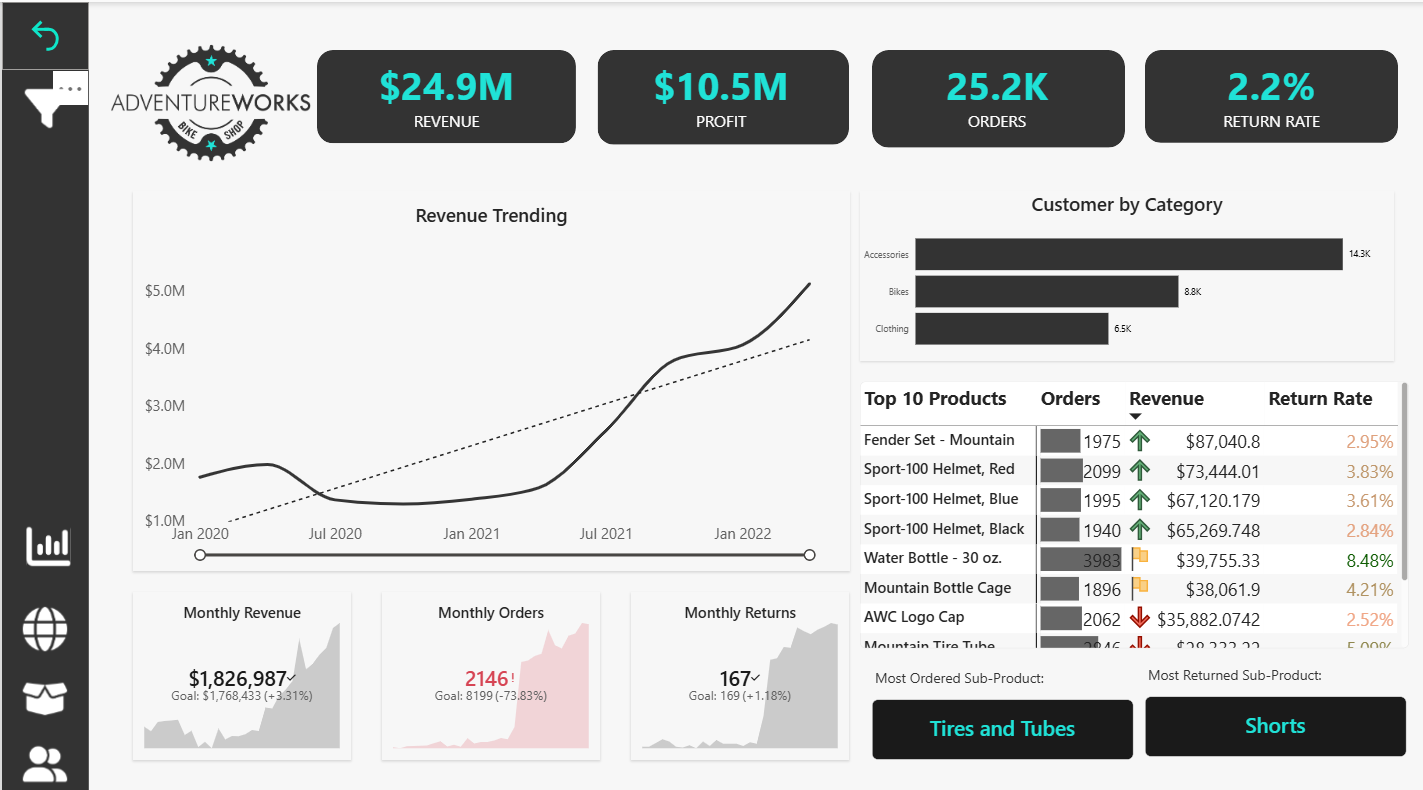

This screenshot's page, from the dashboard's own definition file:
{"tool":"powerbi","page":{"name":"Exe Dashboard","canvas":[1920,1080],"ordinal":0},"visuals":[{"type":"image","title":"Logo","box":[118,0,330.5,273.7],"z":0},{"type":"card","fields":{"Values":["Sales Data (Fact).Total Revenue"]},"box":[436,26,330,198],"z":0,"group":"g2"},{"type":"group","id":"g1","title":"KPI background","box":[426,64,1462,132],"z":0,"group":"g3"},{"type":"shape","box":[426,64,350,126.3],"z":0,"group":"g1"},{"type":"actionButton","box":[8.2,693.4,109.5,85.2],"z":0,"group":"g4"},{"type":"shape","title":"Left panel","box":[0,0,117.6,1080.7],"z":1000},{"type":"group","id":"g2","title":"KPI values","box":[436,26,1446,198],"z":1000,"group":"g3"},{"type":"card","fields":{"Values":["Sales Data (Fact).Total Profit"]},"box":[808,26,330,198],"z":1000,"group":"g2"},{"type":"shape","box":[1546,64,342,125.6],"z":1000,"group":"g1"},{"type":"actionButton","box":[8,986.5,99.4,85.2],"z":1000,"group":"g4"},{"type":"group","id":"g3","title":"Top KPIs","box":[426,26,1462,198],"z":2000},{"type":"card","fields":{"Values":["Sales Data (Fact).Total Orders"]},"box":[1180,26,330,198],"z":2000,"group":"g2"},{"type":"shape","box":[1175.9,64,342,132],"z":2000,"group":"g1"},{"type":"actionButton","box":[8,804,99.4,85.2],"z":2000,"group":"g4"},{"type":"card","fields":{"Values":["Sales Data (Fact).Return rate"]},"box":[1552,26,330,198],"z":3000,"group":"g2"},{"type":"shape","box":[805.9,64,340,128.2],"z":3000,"group":"g1"},{"type":"lineChart","title":"Revenue Trending","fields":{"Category":["AdventureWorks Calendar Lookup.Date Hierarchy.year","AdventureWorks Calendar Lookup.Date Hierarchy.Start of month","AdventureWorks Calendar Lookup.Date Hierarchy.Start of Quarter","AdventureWorks Calendar Lookup.Date Hierarchy.Strat of the week","AdventureWorks Calendar Lookup.Date Hierarchy.Day"],"Y":["Sales Data (Fact).Total Revenue"]},"box":[176,256,970,514],"z":3000},{"type":"actionButton","box":[4.1,885.9,107.5,111.5],"z":3000,"group":"g4"},{"type":"kpi","title":"Monthly Revenue","fields":{"Goal":["Sales Data (Fact).Previous Month Revenue"],"Indicator":["Sales Data (Fact).Total Revenue"],"TrendLine":["AdventureWorks Calendar Lookup.Start of month"]},"box":[176,796,296,228],"z":4000},{"type":"kpi","title":"Monthly Returns","fields":{"Goal":["AdventureWorks Returns Data.Previous Month Returns"],"Indicator":["AdventureWorks Returns Data.Total returns"],"TrendLine":["AdventureWorks Calendar Lookup.Start of month"]},"box":[850,796,296,228],"z":5000},{"type":"kpi","title":"Monthly Orders","fields":{"Goal":["Sales Data (Fact).Previous Month Orders"],"Indicator":["Sales Data (Fact).Total Orders"],"TrendLine":["AdventureWorks Calendar Lookup.Start of month"]},"box":[513,796,296,228],"z":6000},{"type":"clusteredBarChart","title":"Customer by Category","fields":{"Category":["Product Categories Lookup.CategoryName"],"Y":["Sales Data (Fact).Unique Customer"]},"box":[1159.8,255.5,721.8,229.1],"z":7000},{"type":"pivotTable","fields":{"Rows":["Product Lookup.ProductName"],"Values":["Sales Data (Fact).Total Orders","Sales Data (Fact).Total Revenue","AdventureWorks Returns Data.% of all returns"]},"box":[1159.8,513,742.1,360.9],"z":8000},{"type":"card","fields":{"Values":["Min(Product Subcategories Lookup.SubcategoryName)"]},"box":[1176.9,943.8,353.1,81.5],"z":9000},{"type":"textbox","box":[1180,900.2,251.4,42.6],"z":10000},{"type":"card","fields":{"Values":["Min(Product Subcategories Lookup.SubcategoryName)"]},"box":[1545.1,938.9,353.1,81.5],"z":11000},{"type":"textbox","box":[1548.3,895.4,251.4,42.6],"z":12000},{"type":"actionButton","box":[0,0,117.6,91.2],"z":13000},{"type":"group","id":"g4","title":"Navigation buttons","box":[4.1,693.4,113.5,378.3],"z":14000},{"type":"actionButton","box":[6.1,91.2,109.5,105.4],"z":15000}]}

Visuals, with their boxes on the page's 1920x1080 design canvas (x1, y1, x2, y2). These are canvas units, not pixel positions in the 1423x790 screenshot, which may show the page scaled, cropped or inside an application window:
"Logo" image: (x1=118, y1=0, x2=448, y2=274)
card - Sales Data (Fact).Total Revenue: (x1=436, y1=26, x2=766, y2=224)
"KPI background" group: (x1=426, y1=64, x2=1888, y2=196)
shape: (x1=426, y1=64, x2=776, y2=190)
actionButton: (x1=8, y1=693, x2=118, y2=779)
"Left panel" shape: (x1=0, y1=0, x2=118, y2=1081)
"KPI values" group: (x1=436, y1=26, x2=1882, y2=224)
card - Sales Data (Fact).Total Profit: (x1=808, y1=26, x2=1138, y2=224)
shape: (x1=1546, y1=64, x2=1888, y2=190)
actionButton: (x1=8, y1=986, x2=107, y2=1072)
"Top KPIs" group: (x1=426, y1=26, x2=1888, y2=224)
card - Sales Data (Fact).Total Orders: (x1=1180, y1=26, x2=1510, y2=224)
shape: (x1=1176, y1=64, x2=1518, y2=196)
actionButton: (x1=8, y1=804, x2=107, y2=889)
card - Sales Data (Fact).Return rate: (x1=1552, y1=26, x2=1882, y2=224)
shape: (x1=806, y1=64, x2=1146, y2=192)
"Revenue Trending" lineChart: (x1=176, y1=256, x2=1146, y2=770)
actionButton: (x1=4, y1=886, x2=112, y2=997)
"Monthly Revenue" kpi: (x1=176, y1=796, x2=472, y2=1024)
"Monthly Returns" kpi: (x1=850, y1=796, x2=1146, y2=1024)
"Monthly Orders" kpi: (x1=513, y1=796, x2=809, y2=1024)
"Customer by Category" clusteredBarChart: (x1=1160, y1=256, x2=1882, y2=485)
pivotTable - Product Lookup.ProductName x Sales Data (Fact).Total Orders: (x1=1160, y1=513, x2=1902, y2=874)
card - Min(Product Subcategories Lookup.SubcategoryName): (x1=1177, y1=944, x2=1530, y2=1025)
textbox: (x1=1180, y1=900, x2=1431, y2=943)
card - Min(Product Subcategories Lookup.SubcategoryName): (x1=1545, y1=939, x2=1898, y2=1020)
textbox: (x1=1548, y1=895, x2=1800, y2=938)
actionButton: (x1=0, y1=0, x2=118, y2=91)
"Navigation buttons" group: (x1=4, y1=693, x2=118, y2=1072)
actionButton: (x1=6, y1=91, x2=116, y2=197)
